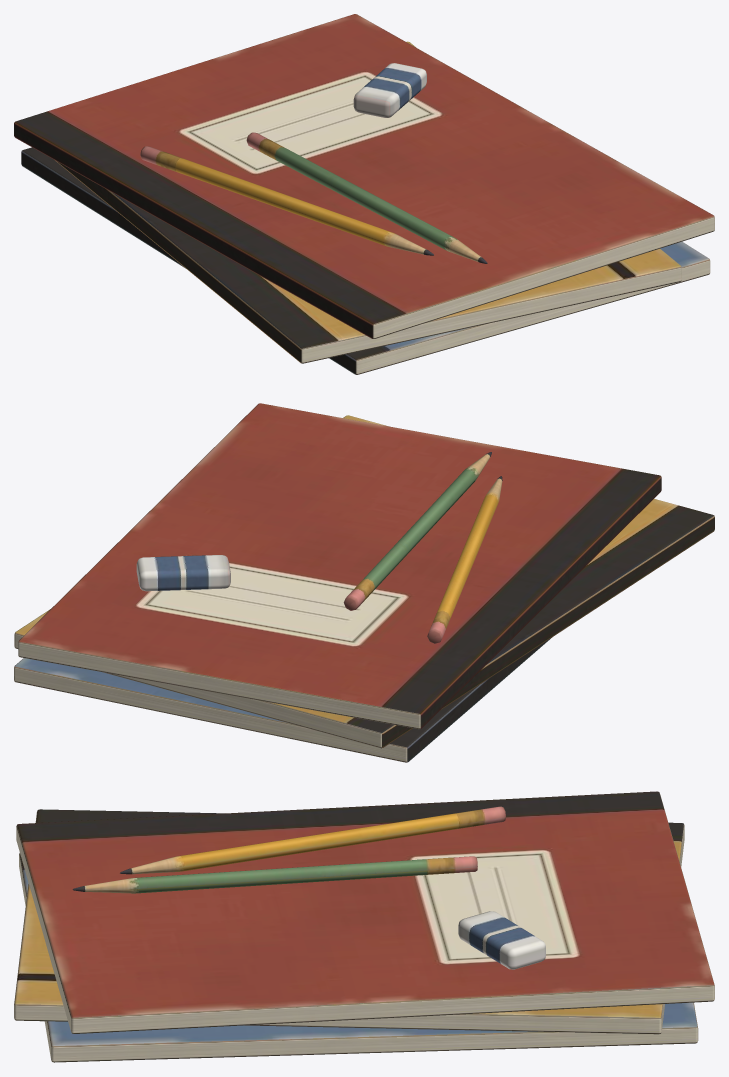
File: notebooks.glb
3 renders of one model, top to bottom at view 1: azimuth 30°, elevation 25°; view 2: azimuth 150°, elevation 25°; view 3: azimuth 270°, elevation 25°, orthographic. The views are drawn at different scales.
Parts seen in each view (by area): view 1: notebooks_stack; view 2: notebooks_stack; view 3: notebooks_stack.
Part boxes in pixels (<box>): notebooks_stack: <box>14,14,714,374</box>; notebooks_stack: <box>14,403,714,762</box>; notebooks_stack: <box>14,791,714,1062</box>.
Size of the model in its own units: 2.32 by 0.355 by 3.03.
1 material, 1 textured.
